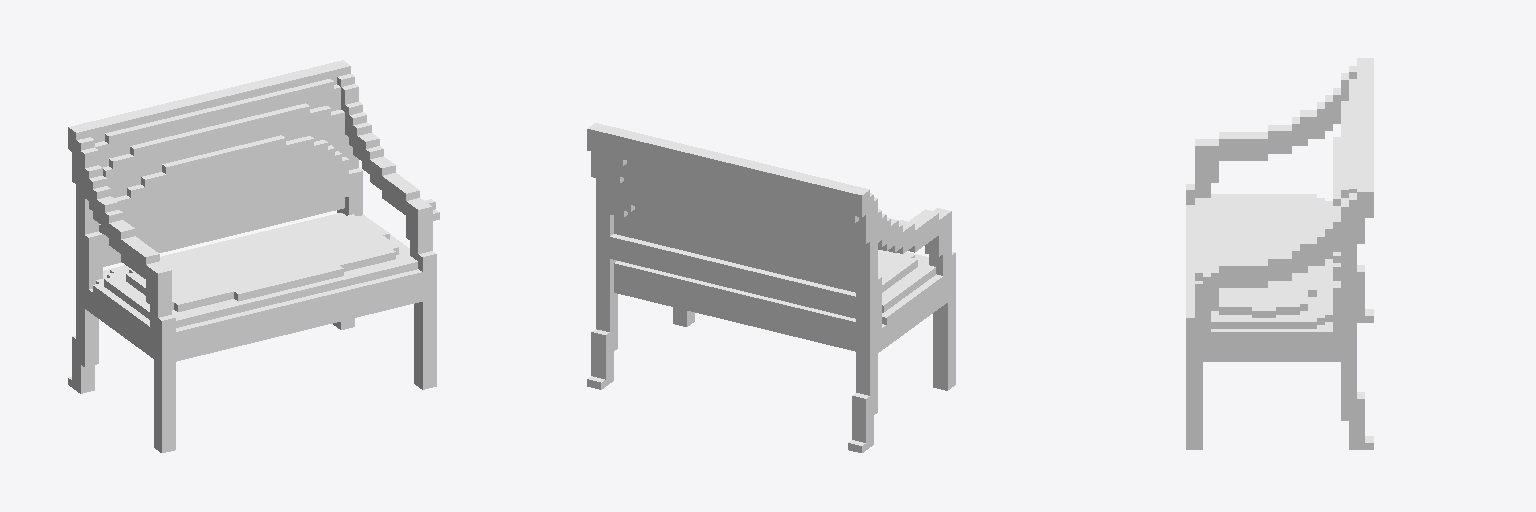
File: kreslho.obj
3 renders of one model, left to right at view 1: azimuth 30°, elevation 25°; view 2: azimuth 150°, elevation 25°; view 3: azimuth 270°, elevation 25°, orthographic.
Bounding box in the file's own units: 40 × 35 × 23.